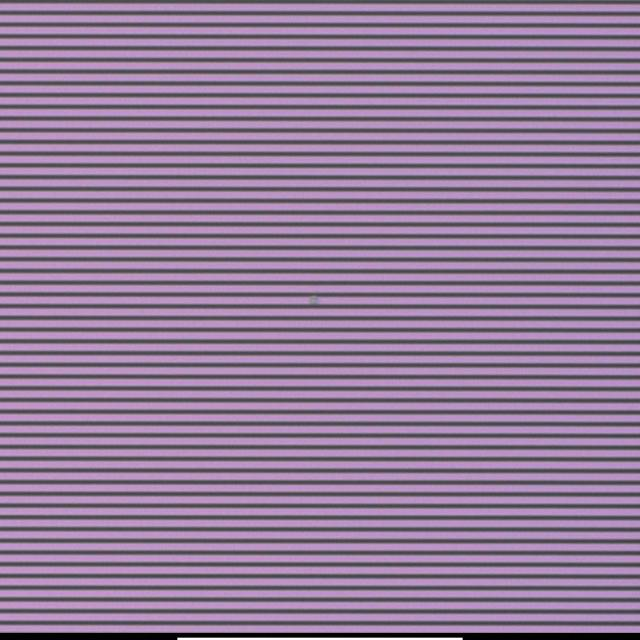nonvisual: (303, 285, 322, 311)
